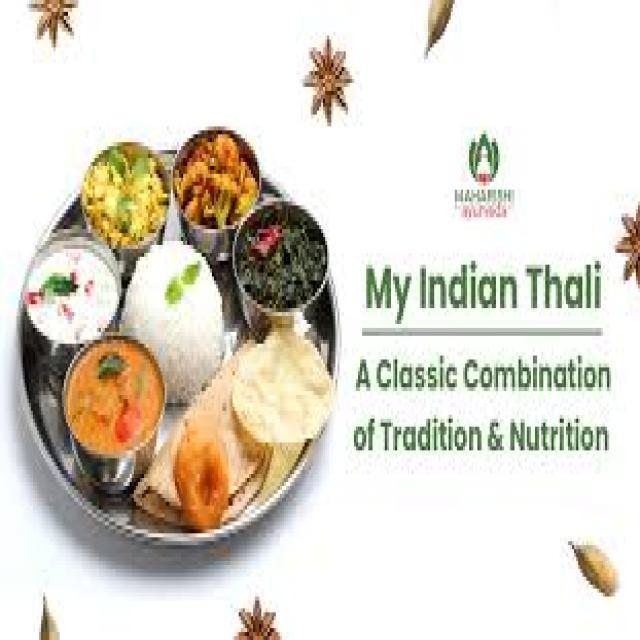papad: (221, 315, 341, 484)
raita: (20, 239, 122, 343)
rice: (127, 236, 228, 389)
sambar-rasam: (45, 318, 171, 496)
veg: (172, 113, 269, 231)
veg-fry: (170, 125, 263, 235)
